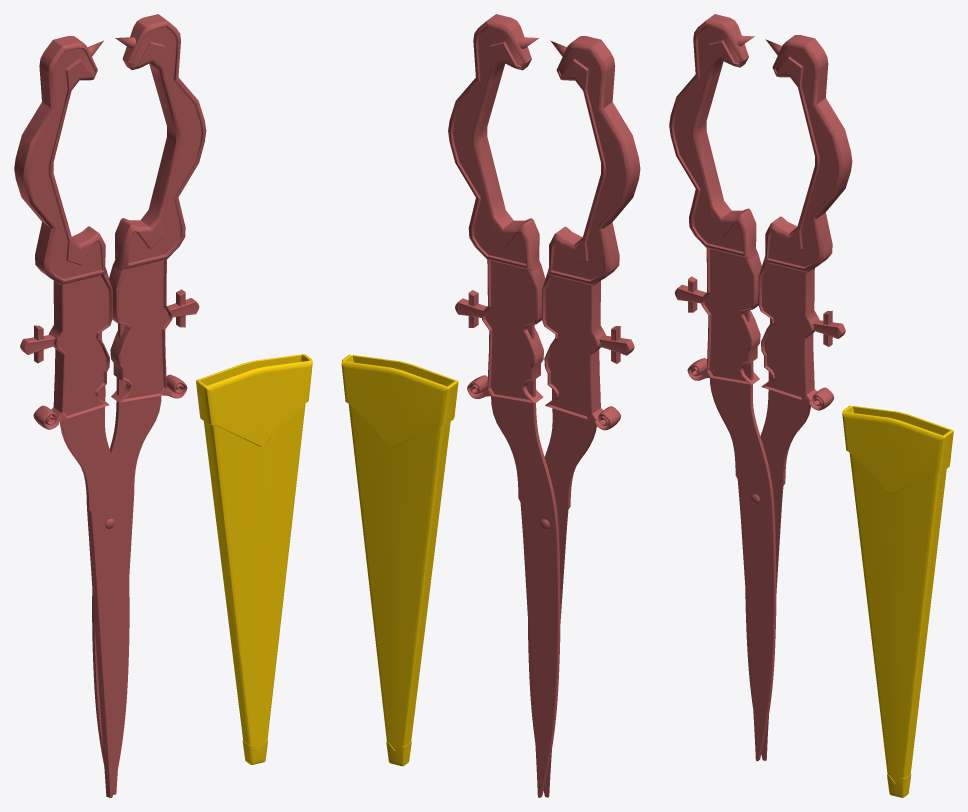
Rendered from scissors2.glb.
3 renders of one model, left to right at view 1: azimuth 30°, elevation 25°; view 2: azimuth 150°, elevation 25°; view 3: azimuth 330°, elevation 25°, orthographic. The views are drawn at different scales.
Parts seen in each view (by area): view 1: Body, Scissors_Cover, Blades; view 2: Body, Scissors_Cover, Blades; view 3: Body, Scissors_Cover, Blades.
Boxes of the visible parts, box(x1,y1,x2,y2) form: Body: box(14, 14, 206, 528); Scissors_Cover: box(196, 354, 312, 764); Blades: box(60, 323, 161, 797); Body: box(448, 14, 640, 529); Scissors_Cover: box(341, 354, 458, 766); Blades: box(491, 324, 596, 797); Body: box(669, 14, 852, 503); Scissors_Cover: box(842, 405, 953, 797); Blades: box(709, 310, 810, 761).
Size of the model in its own units: 0.4805 by 1.21 by 0.0381.
